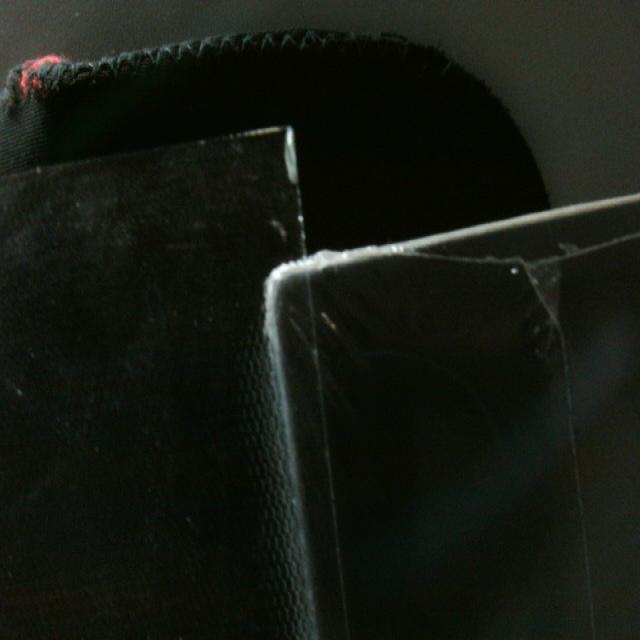edge_chip: (272, 105, 306, 202)
